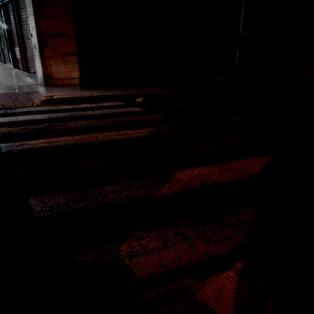Paso de Cebra: (0, 119, 252, 182)
